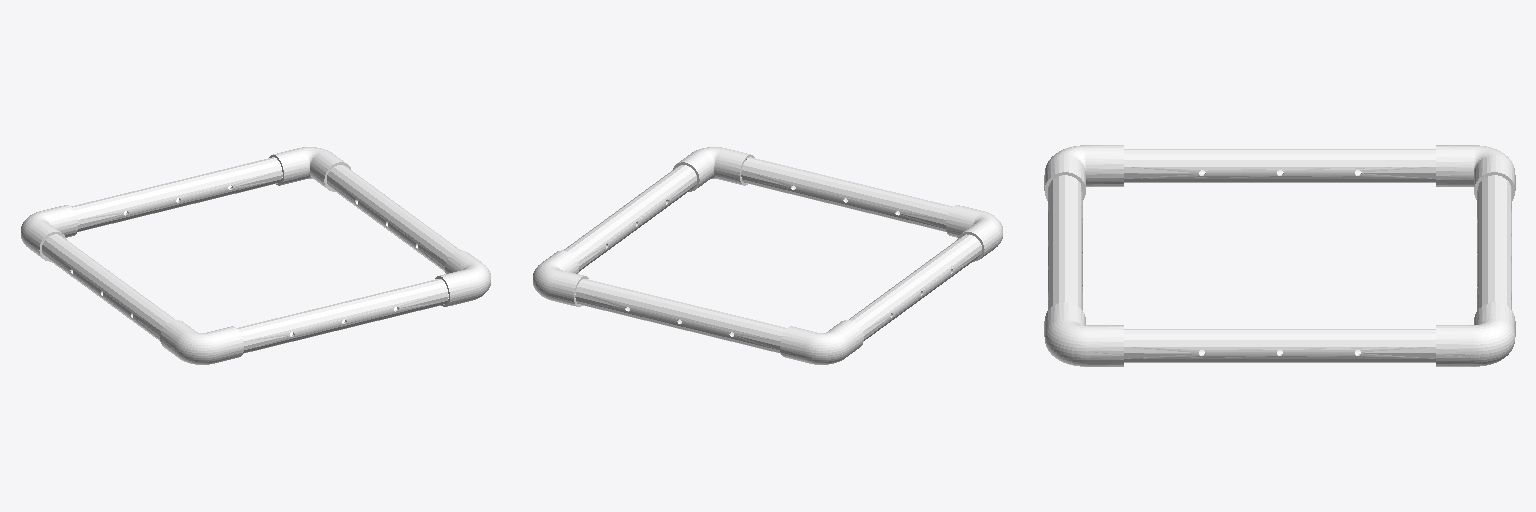
robot.urdf — 2:
<?xml version="1.0" encoding="utf-8"?>
<!-- This URDF was automatically created by SolidWorks to URDF Exporter! Originally created by [author] ([email redacted]) 
     Commit Version: 1.6.0-4-g7f85cfe  Build Version: 1.6.7995.38578
     For more information, please see http://wiki.ros.org/sw_urdf_exporter -->
<robot
  name="2">
  <link
    name="base_link">
    <inertial>
      <origin
        xyz="0.153908846155116 -0.0264787260602576 0.440204393197879"
        rpy="0 0 0" />
      <mass
        value="2.34759592693503" />
      <inertia
        ixx="0.0155302070488227"
        ixy="-7.39561406346257E-17"
        ixz="9.15261970893086E-10"
        iyy="0.0155302070488227"
        iyz="7.75230613136675E-10"
        izz="0.0296746391273075" />
    </inertial>
    <visual>
      <origin
        xyz="0 0 0"
        rpy="0 0 0" />
      <geometry>
        <mesh
          filename="package://2/meshes/base_link.STL" />
      </geometry>
      <material
        name="">
        <color
          rgba="1 1 1 1" />
      </material>
    </visual>
    <collision>
      <origin
        xyz="0 0 0"
        rpy="0 0 0" />
      <geometry>
        <mesh
          filename="package://2/meshes/base_link.STL" />
      </geometry>
    </collision>
  </link>
</robot>

--- Render facts (derived) ---
The picture shows the robot from 3 angles, left to right: view 1: azimuth 30°, elevation 25°; view 2: azimuth 150°, elevation 25°; view 3: azimuth 270°, elevation 25°; orthographic projection.
Robot: 2 — 1 links, 0 joints (none); root link base_link; default pose: every joint at zero.
Visible links, largest first — view 1: base_link; view 2: base_link; view 3: base_link.
Boxes of the visible links, box(x1,y1,x2,y2) form: base_link: box(21, 147, 490, 364); base_link: box(533, 147, 1002, 364); base_link: box(1044, 145, 1515, 366).
Size in the robot's own frame: 0.6746 by 0.68 by 0.06 metres.
Meshes: 1 distinct files referenced, 1 mesh visuals loaded (1 binary STL).